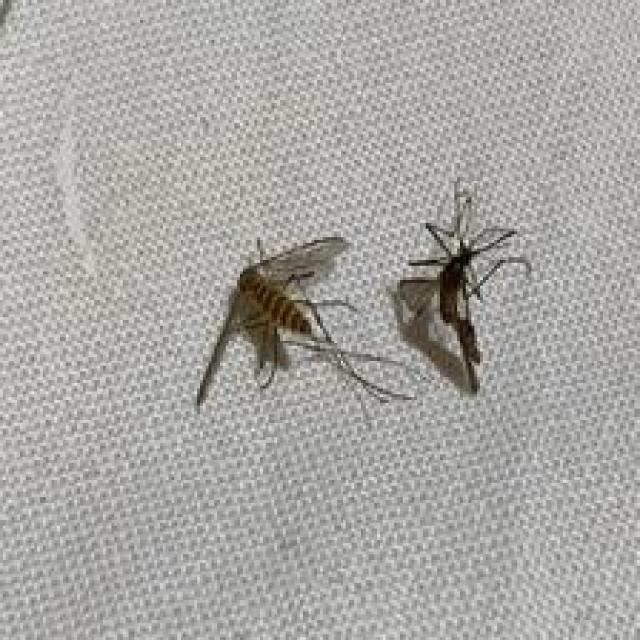Culex: (193, 235, 416, 414)
